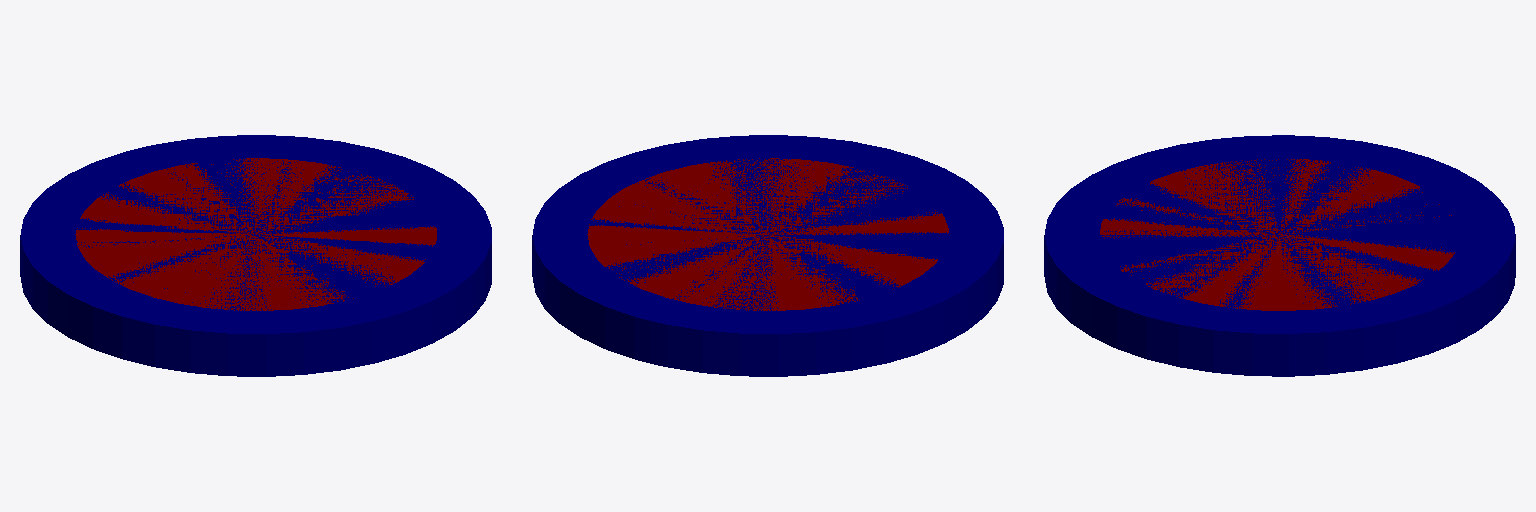
The robot description file, URDF, robot "input_connector_s.SLDASM":
<?xml version="1.0" encoding="utf-8"?>
<!-- This URDF was automatically created by SolidWorks to URDF Exporter! Originally created by [author] ([email redacted]) 
     Commit Version: 1.6.0-4-g7f85cfe  Build Version: 1.6.7995.38578
     For more information, please see http://wiki.ros.org/sw_urdf_exporter -->
<robot
  name="input_connector_s.SLDASM">
  <link
    name="ic_out">
    <inertial>
      <origin
        xyz="0 2.5266E-18 -0.00365"
        rpy="0 0 0" />
      <mass
        value="0.23832" />
      <inertia
        ixx="8.0432E-05"
        ixy="0"
        ixz="6.1355E-38"
        iyy="8.0432E-05"
        iyz="0"
        izz="0.00015875" />
    </inertial>
    <visual>
      <origin
        xyz="0 0 0"
        rpy="0 0 0" />
      <geometry>
        <mesh
          filename="package://input_connector_s.SLDASM/meshes/ic_out.STL" />
      </geometry>
      <material
        name="red">
        <color
          rgba="0.5 0 0 1" />
      </material>
    </visual>
    <collision>
      <origin
        xyz="0 0 0"
        rpy="0 0 0" />
      <geometry>
        <mesh
          filename="package://input_connector_s.SLDASM/meshes/ic_out.STL" />
      </geometry>
    </collision>
  </link>
  <link
    name="ic_body">
    <inertial>
      <origin
        xyz="0 2.5266E-18 -0.00365"
        rpy="0 0 0" />
      <mass
        value="0.23832" />
      <inertia
        ixx="8.0432E-05"
        ixy="0"
        ixz="6.1355E-38"
        iyy="8.0432E-05"
        iyz="0"
        izz="0.00015875" />
    </inertial>
    <visual>
      <origin
        xyz="0 0 0"
        rpy="0 0 0" />
      <geometry>
        <mesh
          filename="package://input_connector_s.SLDASM/meshes/ic_body.STL" />
      </geometry>
      <material
        name="blue">
        <color
          rgba="0 0 0.5 1" />
      </material>
    </visual>
    <collision>
      <origin
        xyz="0 0 0"
        rpy="0 0 0" />
      <geometry>
        <mesh
          filename="package://input_connector_s.SLDASM/meshes/ic_body.STL" />
      </geometry>
    </collision>
  </link>
  <joint
    name="ic_small_1"
    type="fixed">
    <origin
      xyz="0 0 0"
      rpy="0 0 0" />
    <parent
      link="ic_out" />
    <child
      link="ic_body" />
    <axis
      xyz="0 0 0" />
  </joint>
  <link
    name="ic_in">
    <inertial>
      <origin
        xyz="-3.5268E-34 -1.0426E-17 0.00365"
        rpy="0 0 0" />
      <mass
        value="0.23832" />
      <inertia
        ixx="8.0432E-05"
        ixy="0"
        ixz="6.1355E-38"
        iyy="8.0432E-05"
        iyz="0"
        izz="0.00015875" />
    </inertial>
    <visual>
      <origin
        xyz="0 0 0"
        rpy="0 0 0" />
      <geometry>
        <mesh
          filename="package://input_connector_s.SLDASM/meshes/ic_in.STL" />
      </geometry>
      <material
        name="blue">
        <color
          rgba="0 0 0.5 1" />
      </material>
    </visual>
    <collision>
      <origin
        xyz="0 0 0"
        rpy="0 0 0" />
      <geometry>
        <mesh
          filename="package://input_connector_s.SLDASM/meshes/ic_in.STL" />
      </geometry>
    </collision>
  </link>
  <joint
    name="ic_small_2"
    type="fixed">
    <origin
      xyz="0 0 -0.0073"
      rpy="0 0 0" />
    <parent
      link="ic_body" />
    <child
      link="ic_in" />
    <axis
      xyz="0 0 0" />
  </joint>
</robot>

--- What the picture shows (computed from the rendered views, not written in the file) ---
3 views of the same robot in one strip: view 1: azimuth 30°, elevation 25°; view 2: azimuth 150°, elevation 25°; view 3: azimuth 270°, elevation 25° (orthographic).
Robot: input_connector_s.SLDASM — 3 links, 2 joints (2 fixed); root link ic_out; default pose: all joints at 0.
Visible links, largest first — view 1: ic_body, ic_out; view 2: ic_body, ic_out; view 3: ic_body, ic_out.
Link boxes in pixels (<box>): ic_body: <box>20,135,491,376</box>; ic_out: <box>75,158,436,310</box>; ic_body: <box>532,135,1003,376</box>; ic_out: <box>587,158,948,310</box>; ic_body: <box>1044,135,1515,376</box>; ic_out: <box>1100,159,1454,310</box>.
Bounding box of the posed robot: 0.0729 × 0.073 × 0.0073 m (x, y, z).
3 mesh visuals loaded from 3 distinct referenced files (3 binary STL).